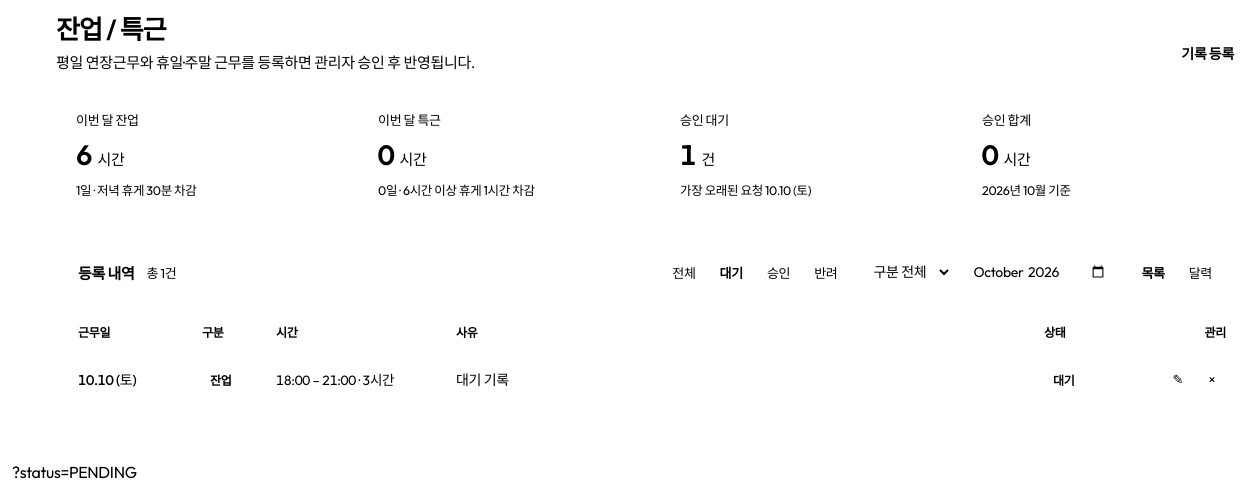
Scenario: OvertimeRecordsPage — 필터 › 승인 대기 바로가기 쿼리로 대기 기록만 열고 필터 변경을 URL에 반영한다
This screenshot has width=1252, height=499.
Check: the text "대기 기록" is shown, box [456,371,509,389]
Check: the text "반려 기록" is not shown
What coordinates should you click on to do the following:
click the button "전체"
I would click on:
 (684, 272)
Its box is [661,258,707,286].
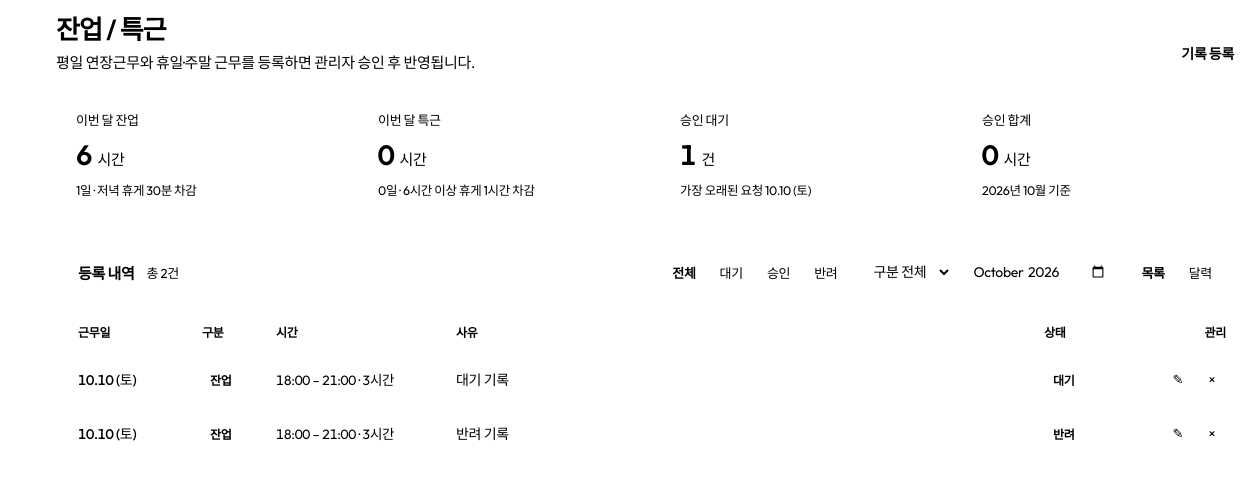
Check: the text "반려 기록" is shown, box [456,425,509,443]
